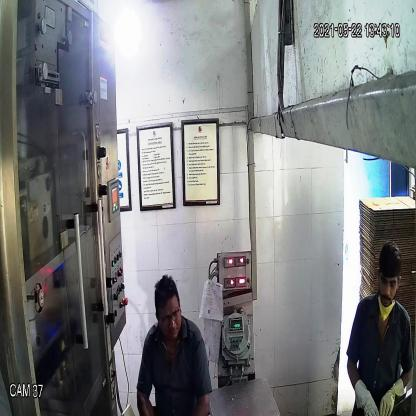goggles: (153, 302, 183, 327)
no_goggles: (375, 268, 400, 294)
